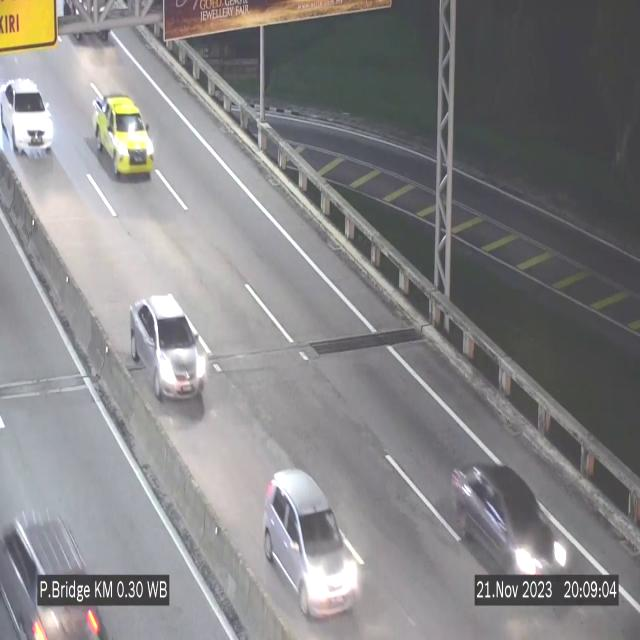Car: (264, 471, 362, 617), (450, 456, 566, 574), (131, 296, 207, 403), (93, 95, 154, 178), (1, 78, 53, 161)
